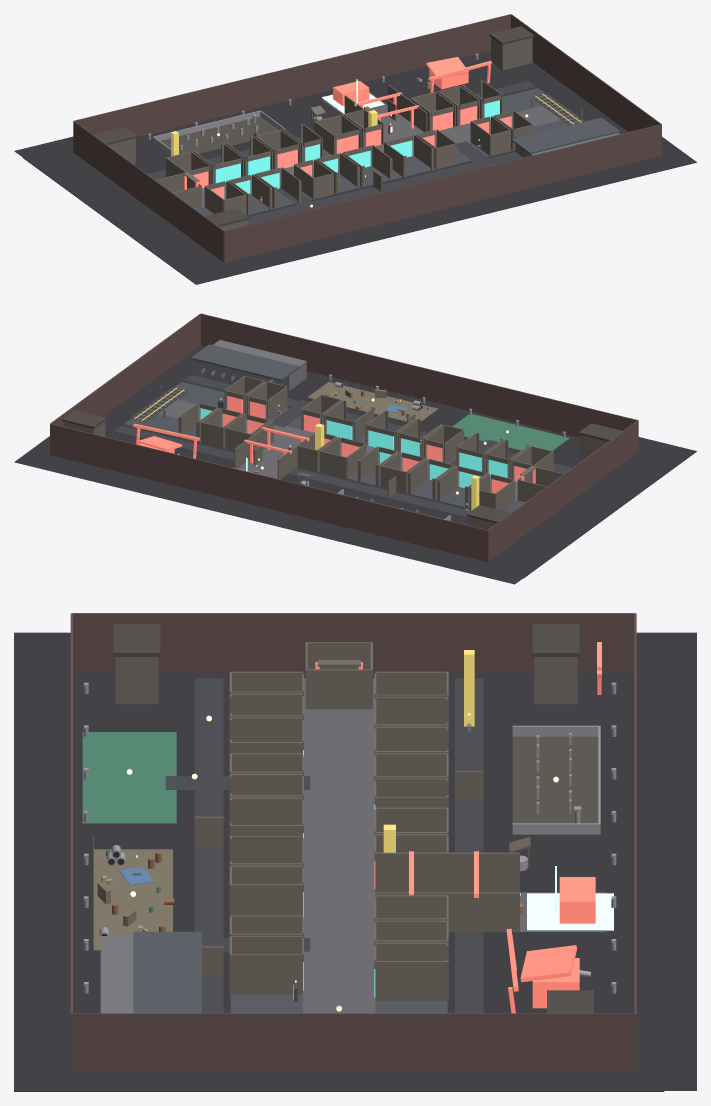
The model's file is prop_level_yata2.glb.
3 renders of one model, top to bottom at view 1: azimuth 30°, elevation 25°; view 2: azimuth 150°, elevation 25°; view 3: azimuth 270°, elevation 25°, orthographic. The views are drawn at different scales.
Parts seen in each view (by area): view 1: level_yata2; view 2: level_yata2; view 3: level_yata2.
Part boxes in pixels (<box>): level_yata2: <box>14,14,696,284</box>; level_yata2: <box>14,313,696,584</box>; level_yata2: <box>14,613,696,1091</box>.
Bounding box in the file's own units: 300 × 22.53 × 189.
